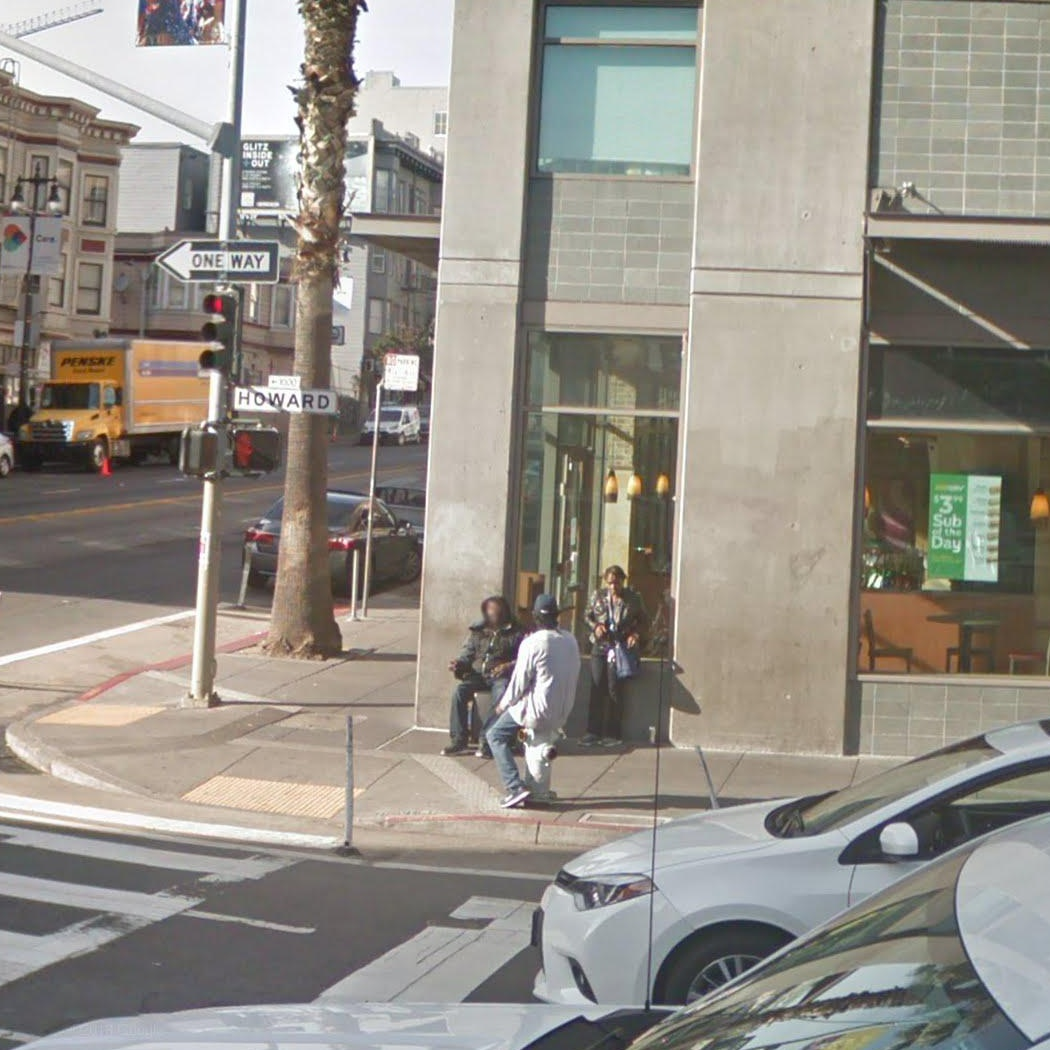No Parking: (382, 353, 420, 392)
